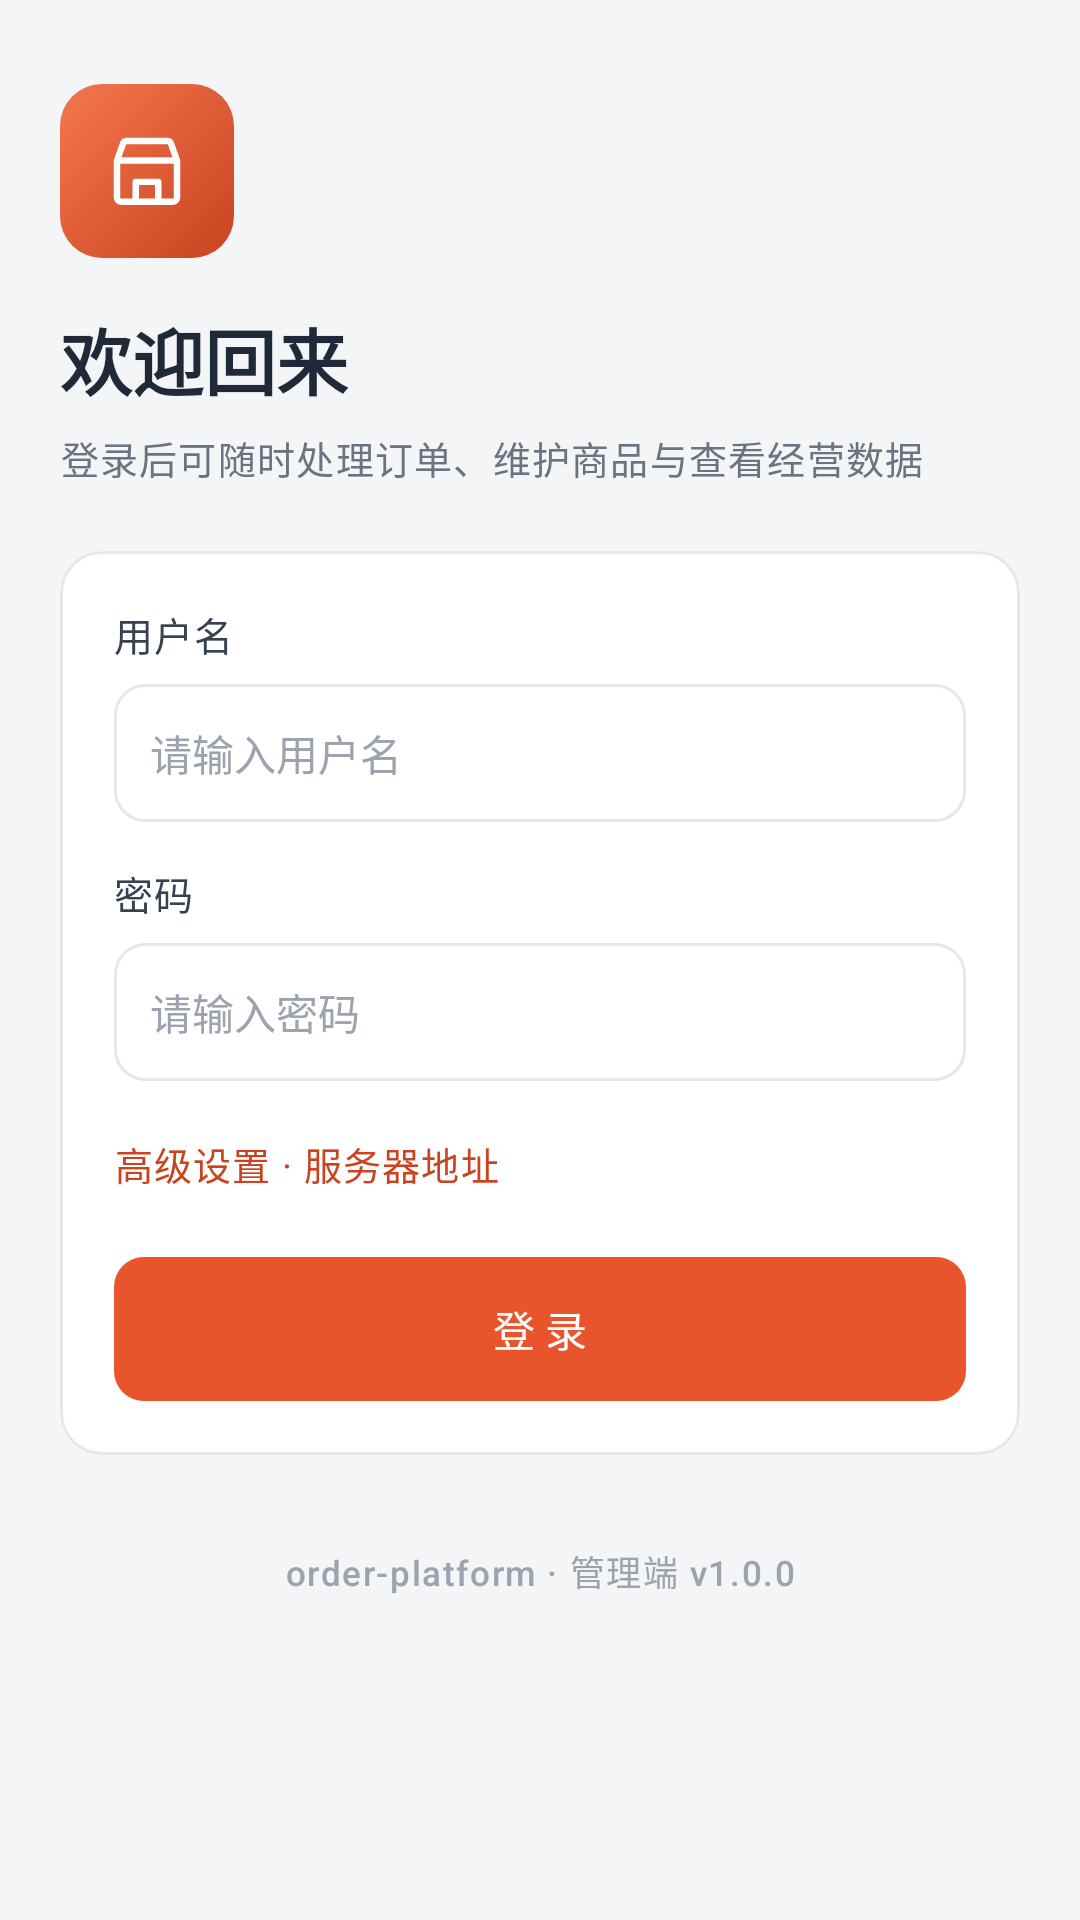

Where to tap for icons on this 1080*1920 app screen, as (x=x, y=y):
shop: (x=147, y=171)
